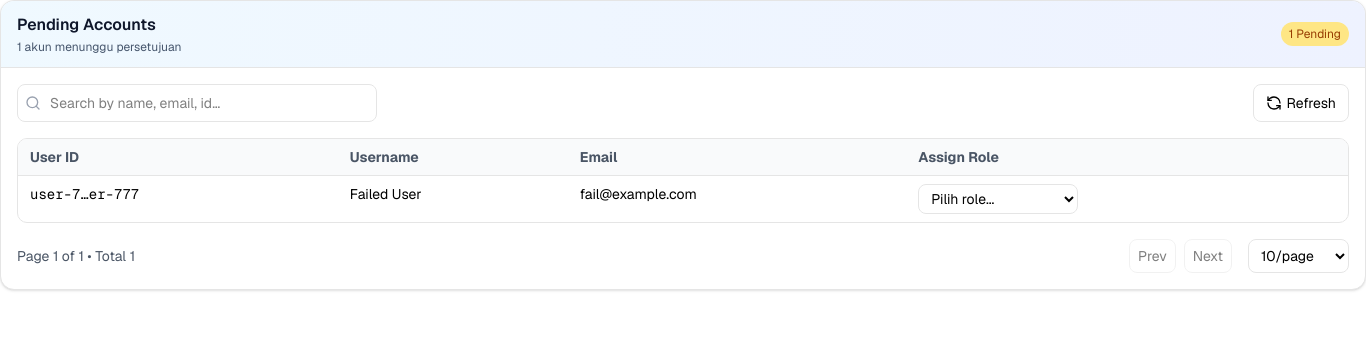
PendingAccounts › shows error when role confirmation fails
The image size is (1366, 340).
Expected: the text "Failed User" is shown, [350, 185, 422, 203]
Select "Teacher" in the dropdown in the row of "user-7": (998, 199) [918, 184, 1078, 214]
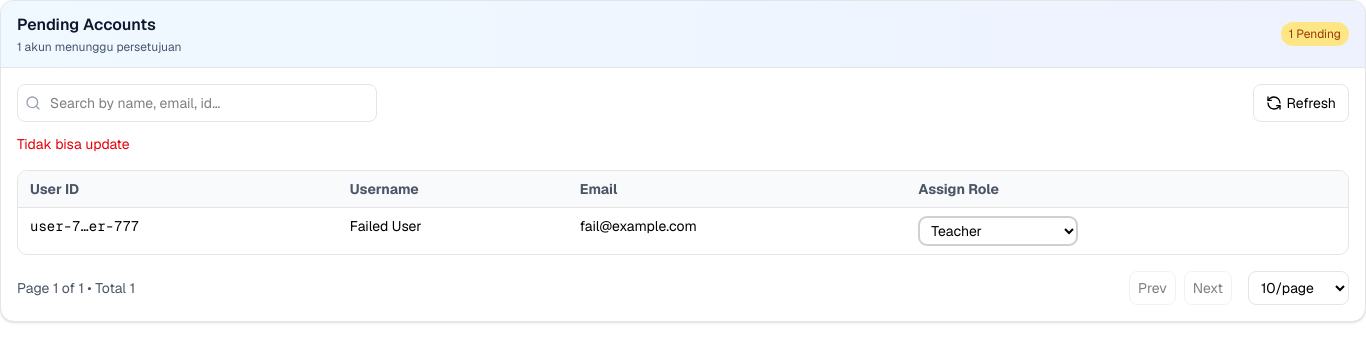
Expected: the text "Failed User" is shown, [338, 208, 568, 254]
Result: the text "Tidak bisa update" is shown at [17, 135, 130, 153]
